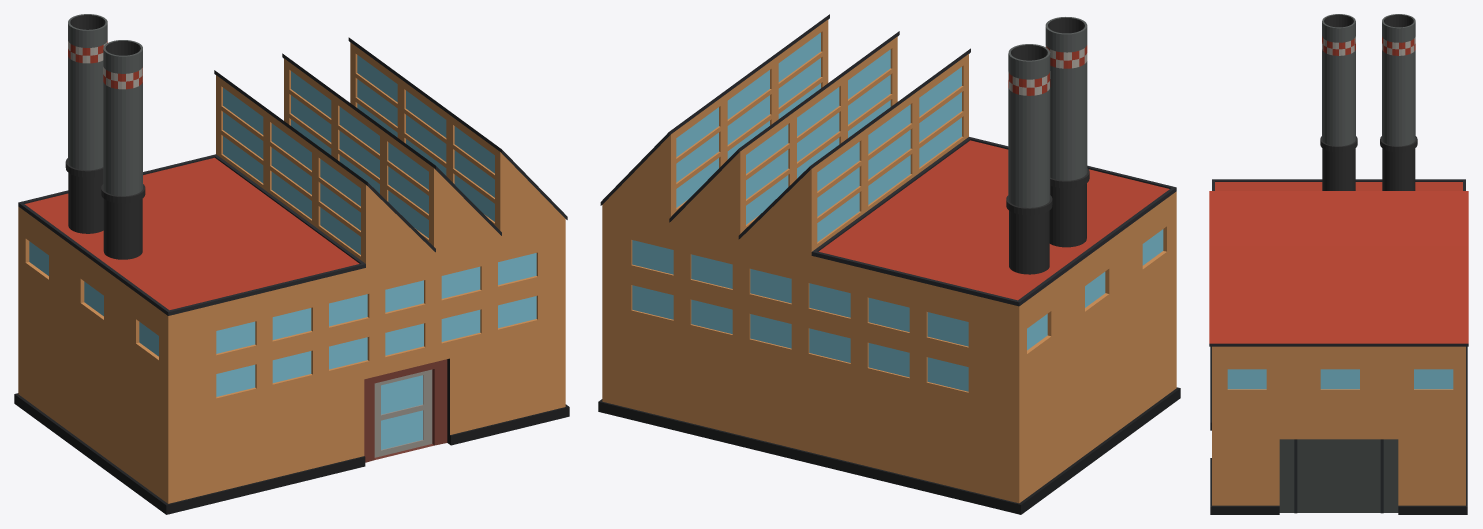
Rendered from SM_factory_01_B.gltf.
3 views of the same model, side by side, from view 1: azimuth 30°, elevation 25°; view 2: azimuth 150°, elevation 25°; view 3: azimuth 270°, elevation 25° (orthographic). The views are drawn at different scales.
Visible parts, largest first — view 1: SM_factory_01_B; view 2: SM_factory_01_B; view 3: SM_factory_01_B.
Boxes of the visible parts, <box> form: SM_factory_01_B: <box>14,14,569,514</box>; SM_factory_01_B: <box>598,14,1180,514</box>; SM_factory_01_B: <box>1209,14,1468,514</box>.
Size of the model in its own units: 4.67 by 4.46 by 3.08.
